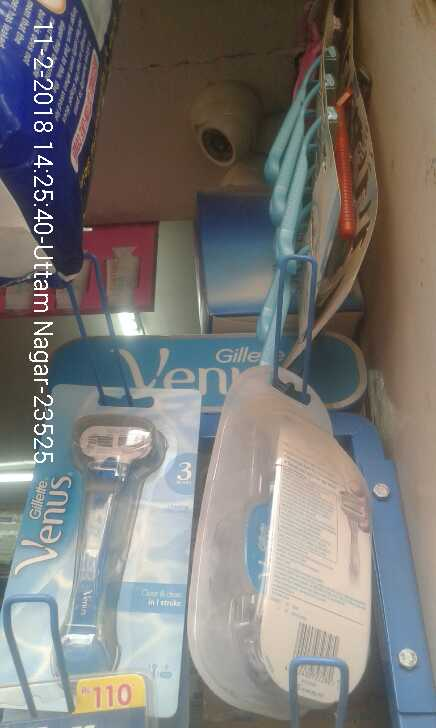venus: (5, 385, 183, 725)
